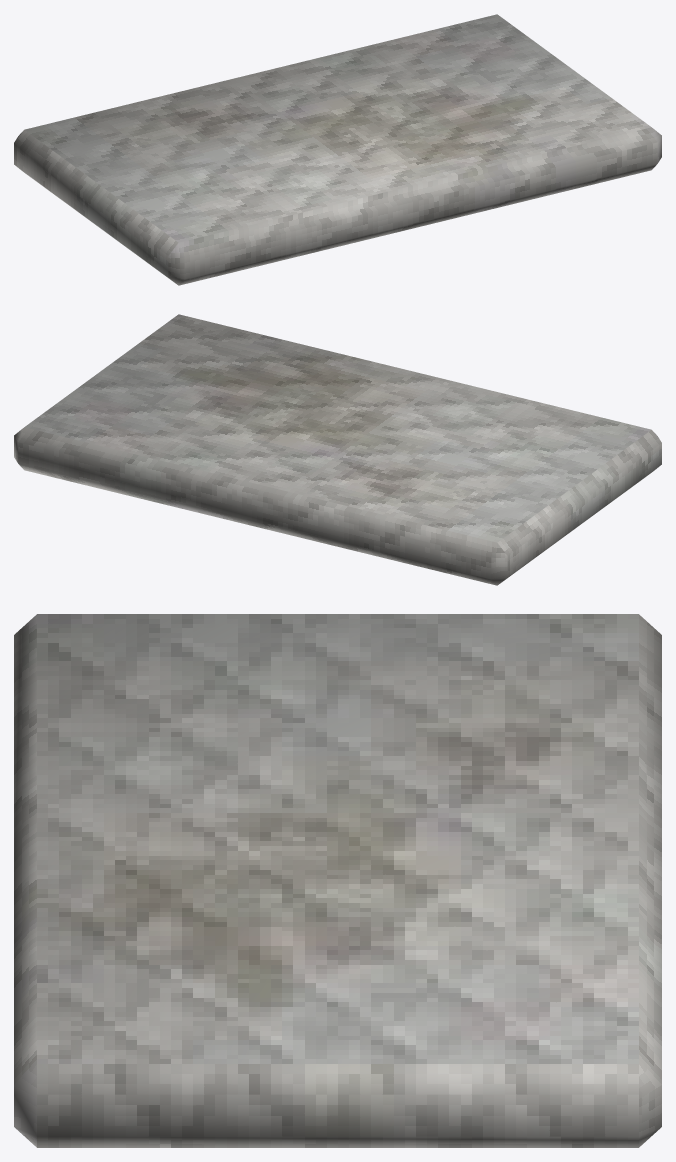
File: f_mattress.glb
The picture shows the model from 3 angles, top to bottom: view 1: azimuth 30°, elevation 25°; view 2: azimuth 150°, elevation 25°; view 3: azimuth 270°, elevation 25°; orthographic projection. The views are drawn at different scales.
Parts seen in each view (by area): view 1: Mattress; view 2: Mattress; view 3: Mattress.
Part boxes in pixels (x1=…): Mattress: x1=14, y1=14, x2=661, y2=285; Mattress: x1=14, y1=314, x2=661, y2=585; Mattress: x1=14, y1=614, x2=661, y2=1147.
Size of the model in its own units: 1.82 by 0.152 by 1.06.
Materials: 1 (1 with a texture image).
